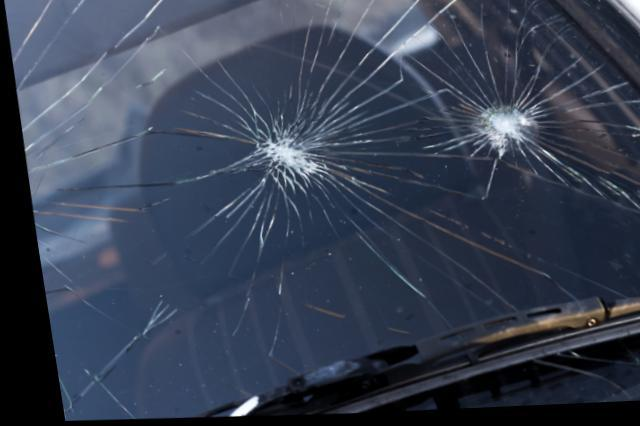glass shatter: (4, 0, 640, 420)
